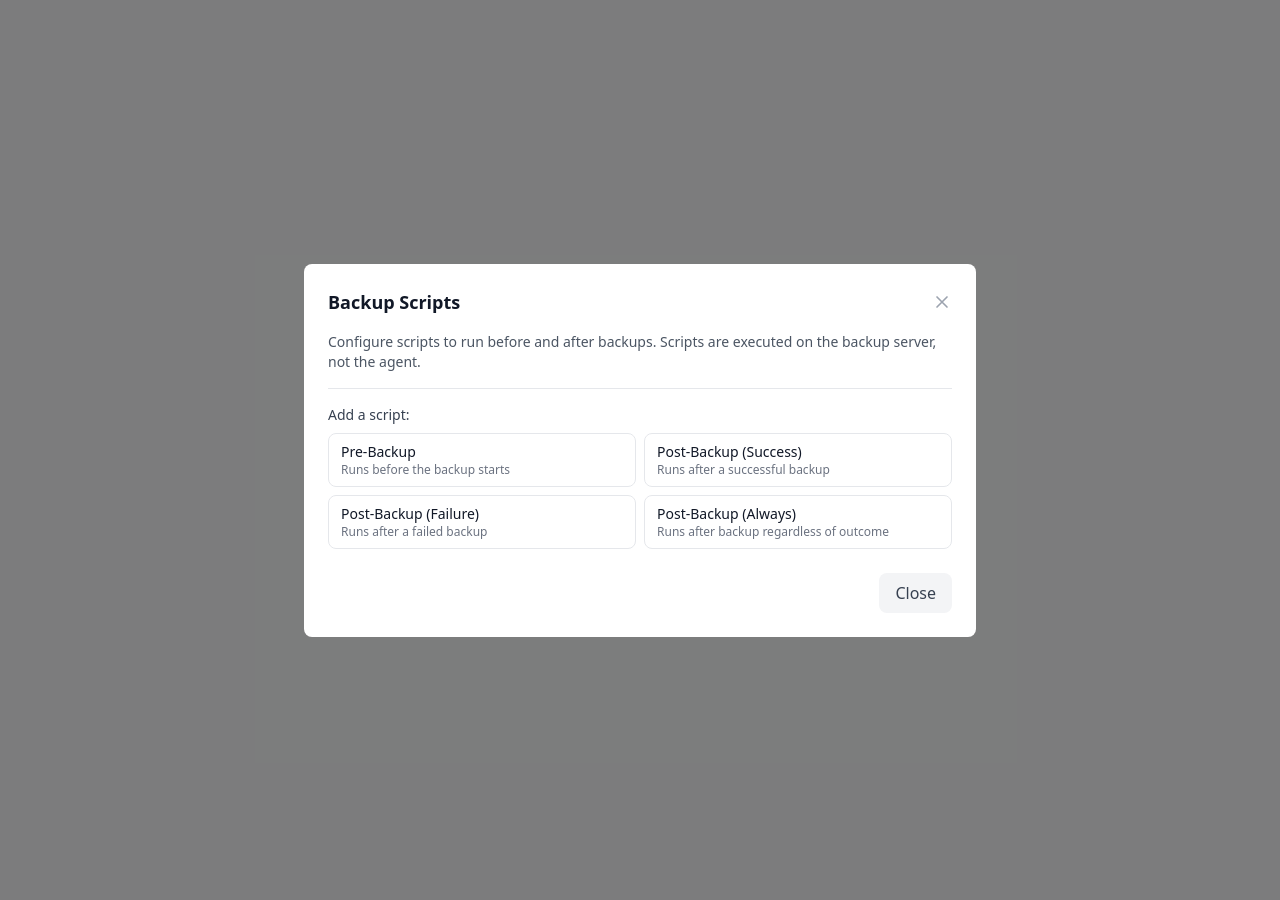
Test case: BackupScriptsEditor › opens script form when clicking add button
Click the text "Pre-Backup".
click(378, 451)  # box [341,442,416,460]
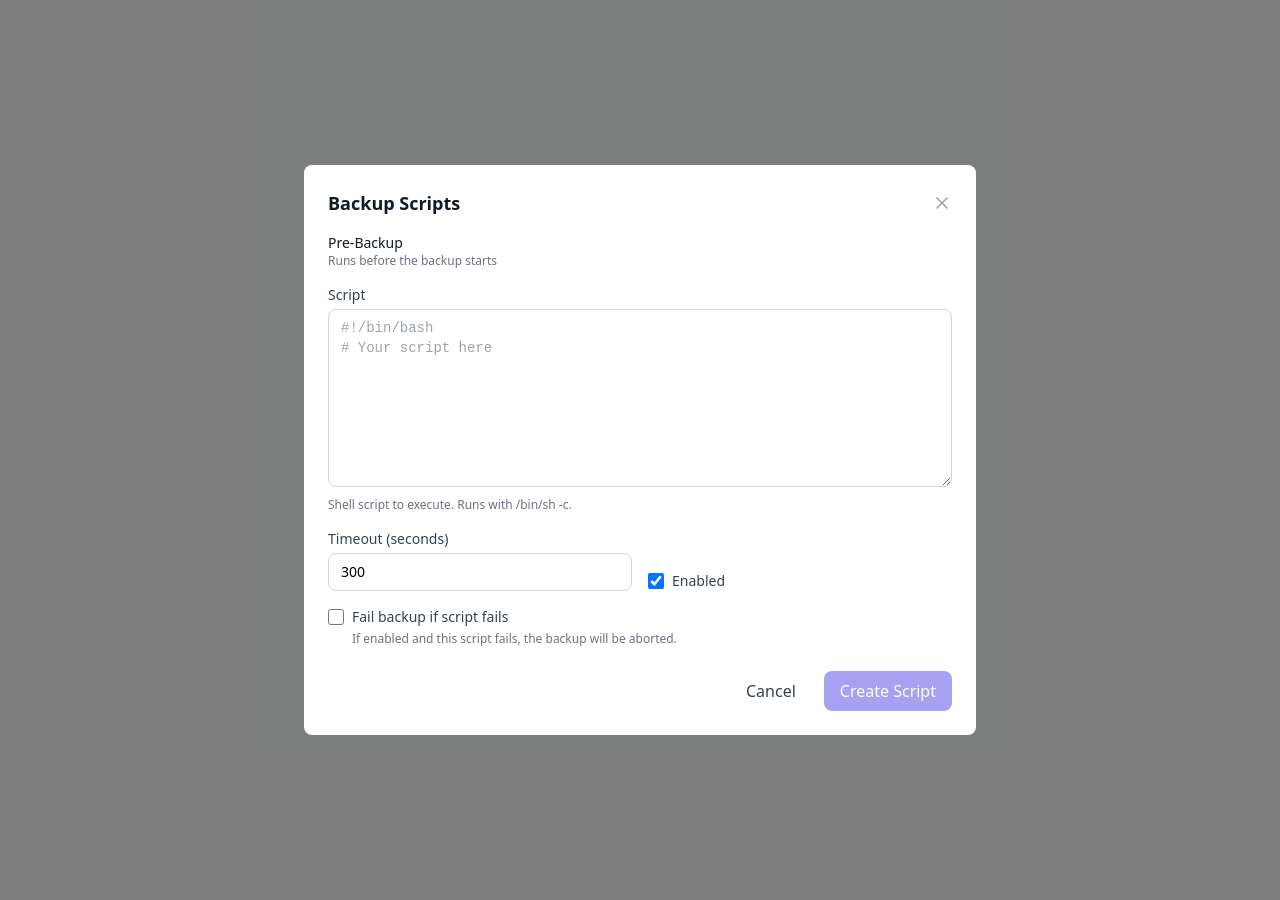
Check: the text box labelled "Script" is shown, box [328,309,952,487]
Check: the number field labelled "Timeout (seconds)" is shown, box [328,553,632,591]
Check: the button "Create Script" is shown, box [824,671,952,711]
